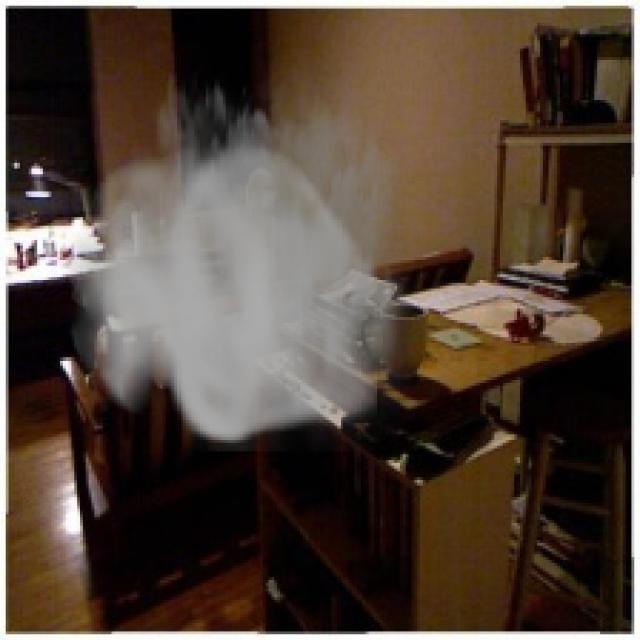smoke: (66, 34, 426, 452)
